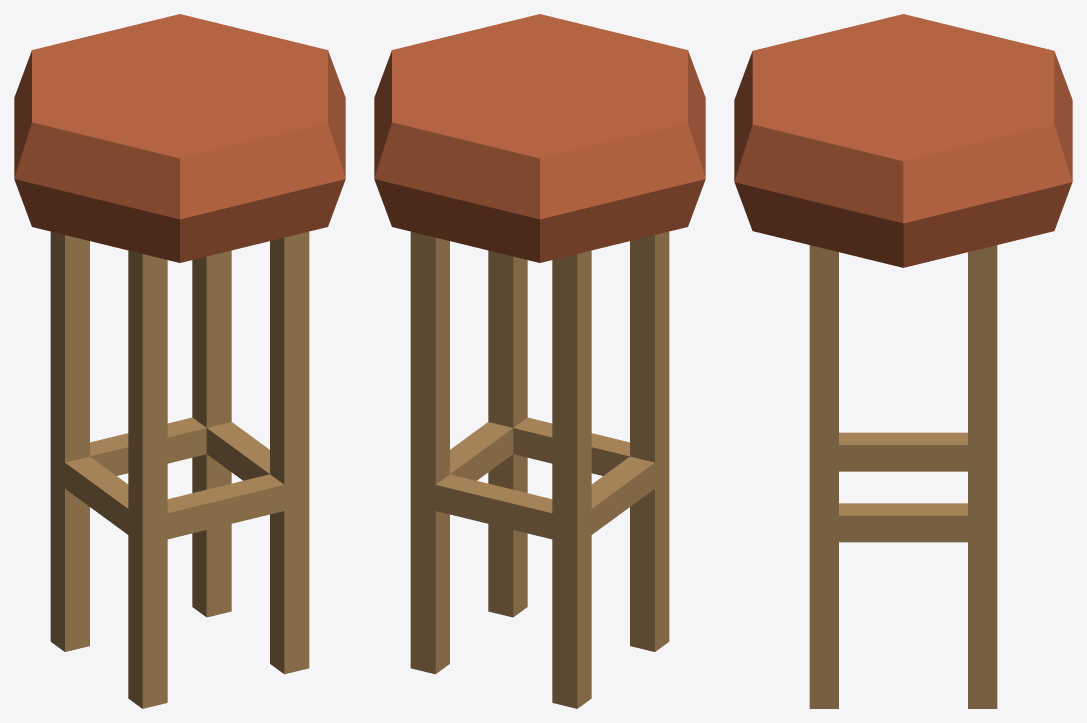
File: stoolBar.glb
3 renders of one model, left to right at view 1: azimuth 30°, elevation 25°; view 2: azimuth 150°, elevation 25°; view 3: azimuth 270°, elevation 25°, orthographic.
Visible parts, largest first — view 1: stoolBar; view 2: stoolBar; view 3: stoolBar.
Part boxes in pixels (<box>): stoolBar: <box>14,14,345,708</box>; stoolBar: <box>374,14,705,708</box>; stoolBar: <box>734,14,1072,708</box>.
Size of the model in its own units: 0.5309 by 0.87 by 0.4598.
